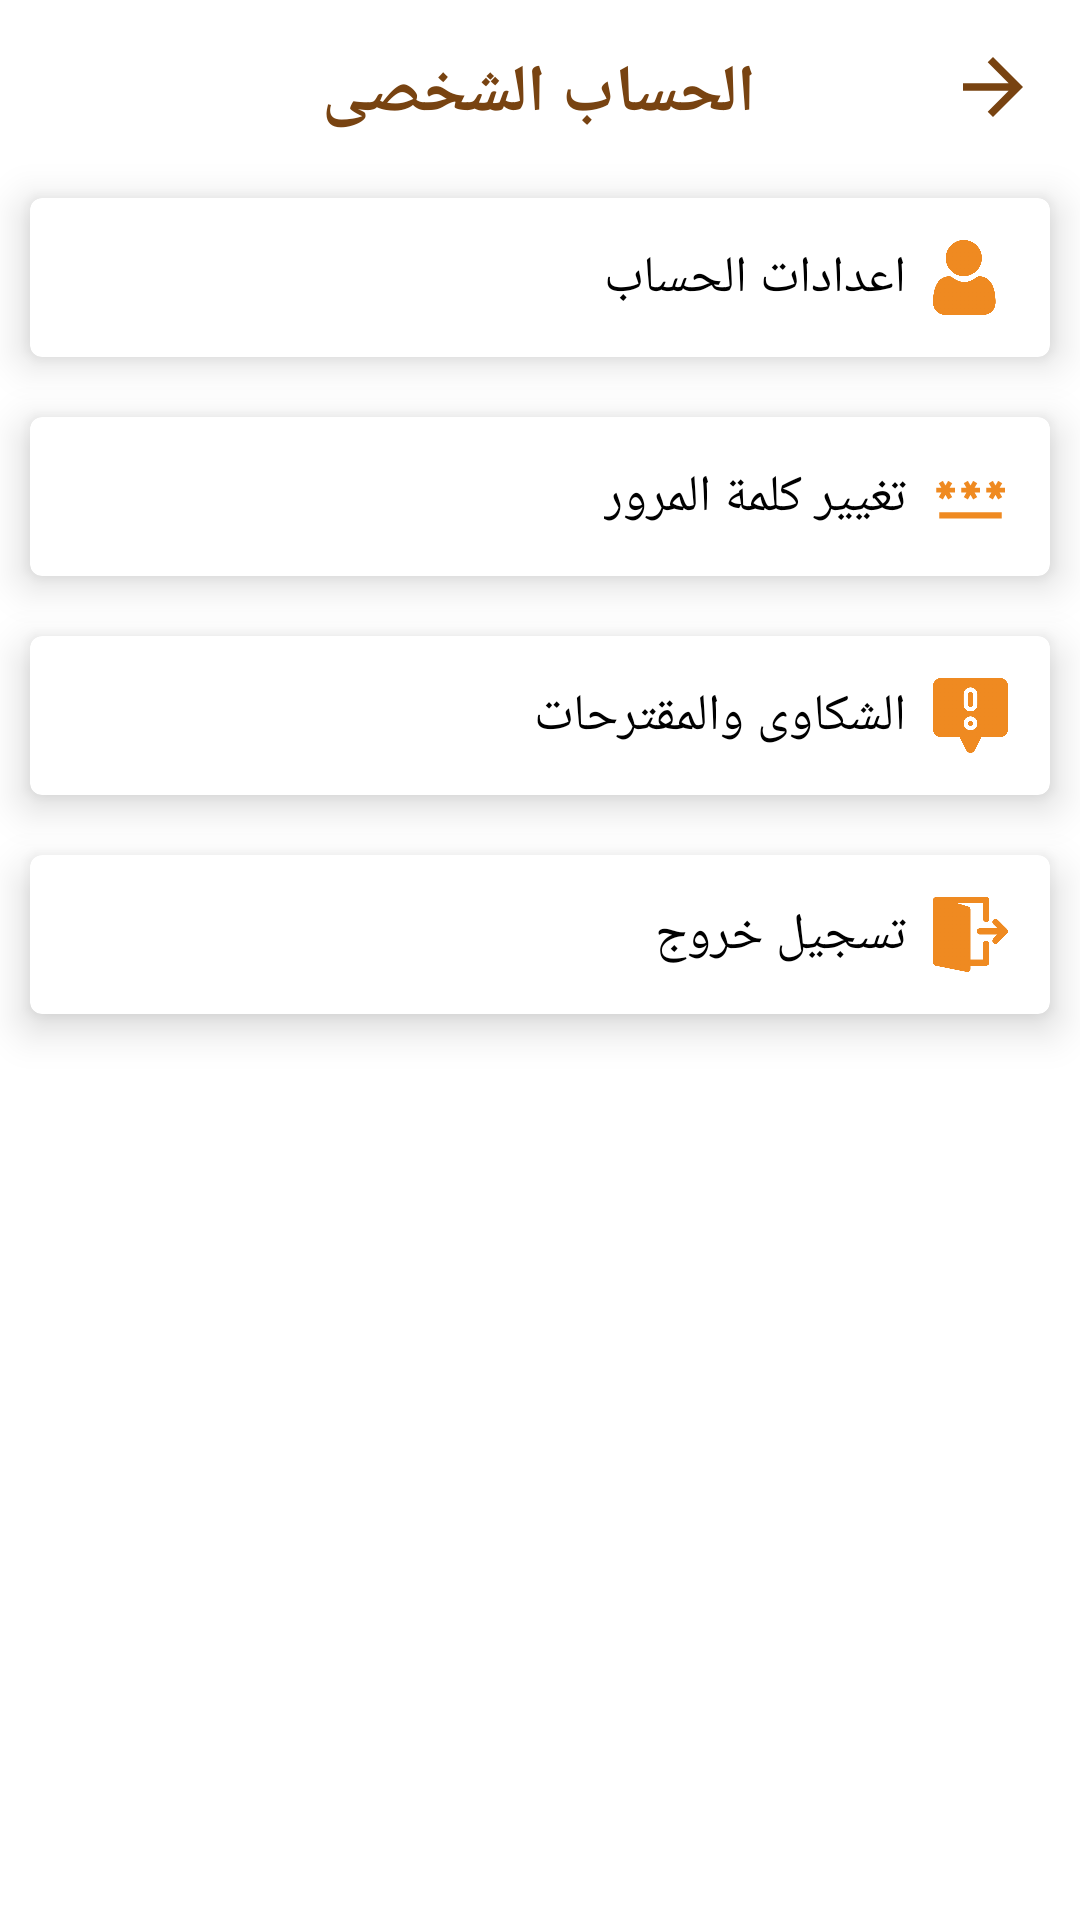

Named icons in this screenshot (1080 x 1920) and their centers, (x,y):
account: (964,277)
arrow forward: (993,87)
complaints: (970,715)
password: (970,500)
